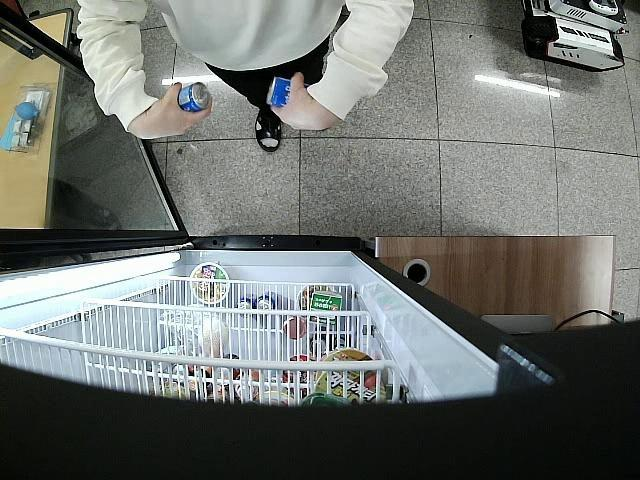15_letsbe: (267, 76, 308, 106), (179, 82, 211, 113)
